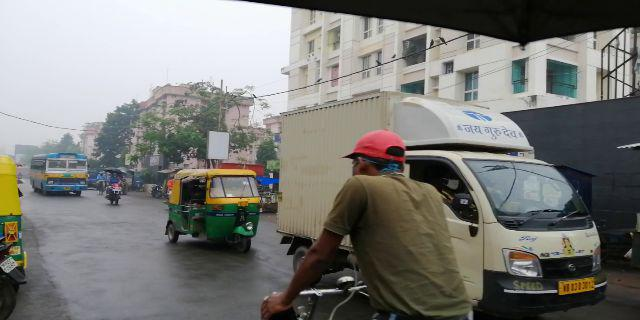Autorickshaw: (167, 167, 260, 250)
Bus: (33, 153, 91, 197)
Minitruck: (277, 94, 607, 306)
Motorbike: (104, 168, 124, 206)
